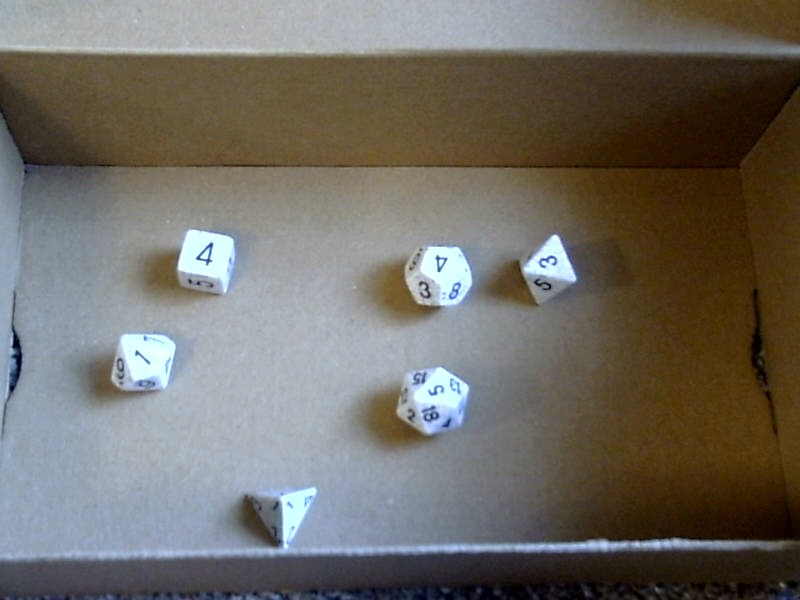d10 1: (100, 327, 178, 406)
d12 4: (395, 237, 479, 317)
d20 5: (388, 360, 472, 443)
d4 1: (237, 479, 320, 552)
d6 4: (171, 222, 242, 297)
d8 3: (511, 230, 584, 310)
